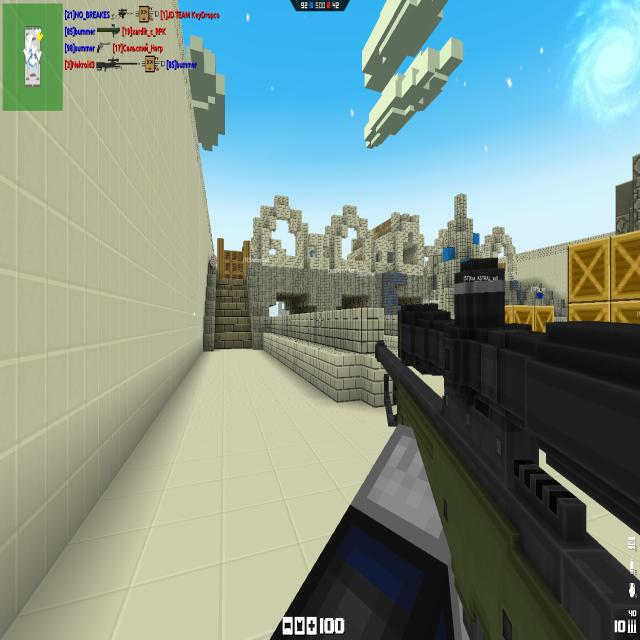player: (537, 288, 543, 298)
